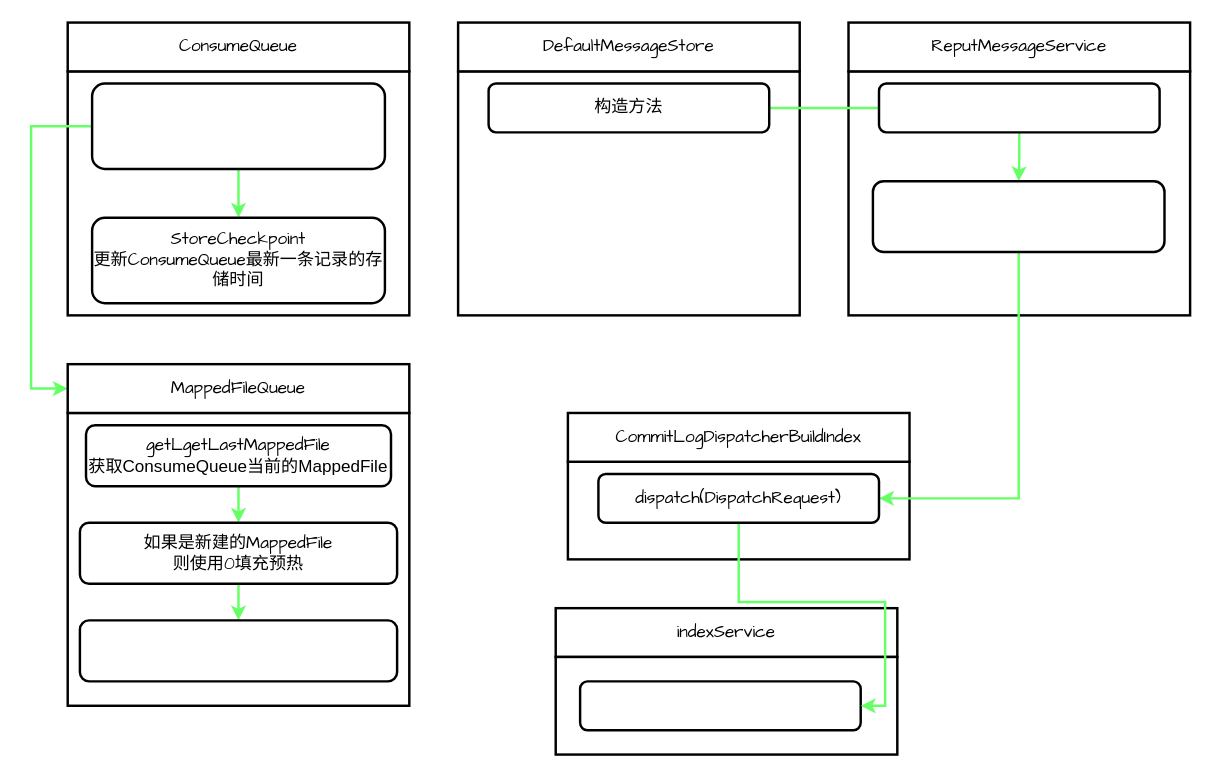
Some shapes in this 1211 by 776 pixel diagram are drawn without their labels. The shapes that lost their labels are listed below. From the top down, each one's box as (x1, y1, x2, y2) in pixels, then its label:
(90, 82, 386, 170): putMessagePositionInfoWrapper 将分发的消息写入缓存区
(877, 82, 1160, 133): run() 线程启动，一直循环运行
(871, 179, 1165, 253): doReput 获取CommitLog在reputFromOffset处存储的消息
(78, 619, 398, 682): MappedFile追加消息内容
(578, 680, 861, 731): buildIndex
